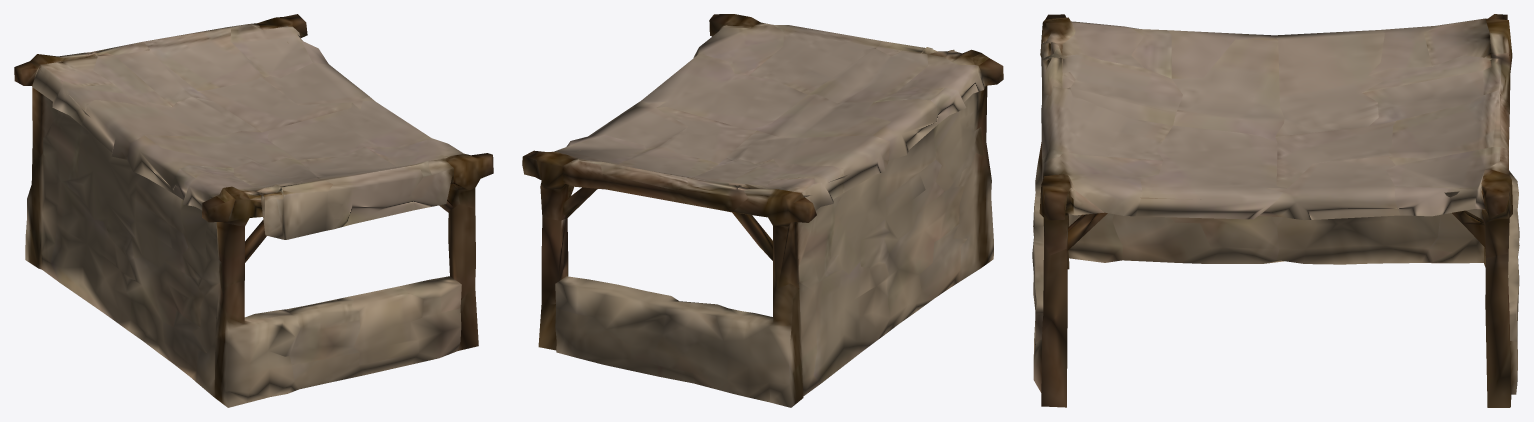
File: market-stall-tripo-v2.glb
3 renders of one model, left to right at view 1: azimuth 30°, elevation 25°; view 2: azimuth 150°, elevation 25°; view 3: azimuth 270°, elevation 25°, orthographic. The views are drawn at different scales.
Parts seen in each view (by area): view 1: tripo_node_8ed803f8-48db-4786-8990-fdb545fc0a84; view 2: tripo_node_8ed803f8-48db-4786-8990-fdb545fc0a84; view 3: tripo_node_8ed803f8-48db-4786-8990-fdb545fc0a84.
Part boxes in pixels (x1=…): tripo_node_8ed803f8-48db-4786-8990-fdb545fc0a84: x1=14, y1=14, x2=493, y2=407; tripo_node_8ed803f8-48db-4786-8990-fdb545fc0a84: x1=522, y1=14, x2=1003, y2=407; tripo_node_8ed803f8-48db-4786-8990-fdb545fc0a84: x1=1032, y1=14, x2=1519, y2=407.
Size of the model in its own units: 0.8024 by 0.5633 by 0.9984.
Materials: 1 (1 with a texture image).
